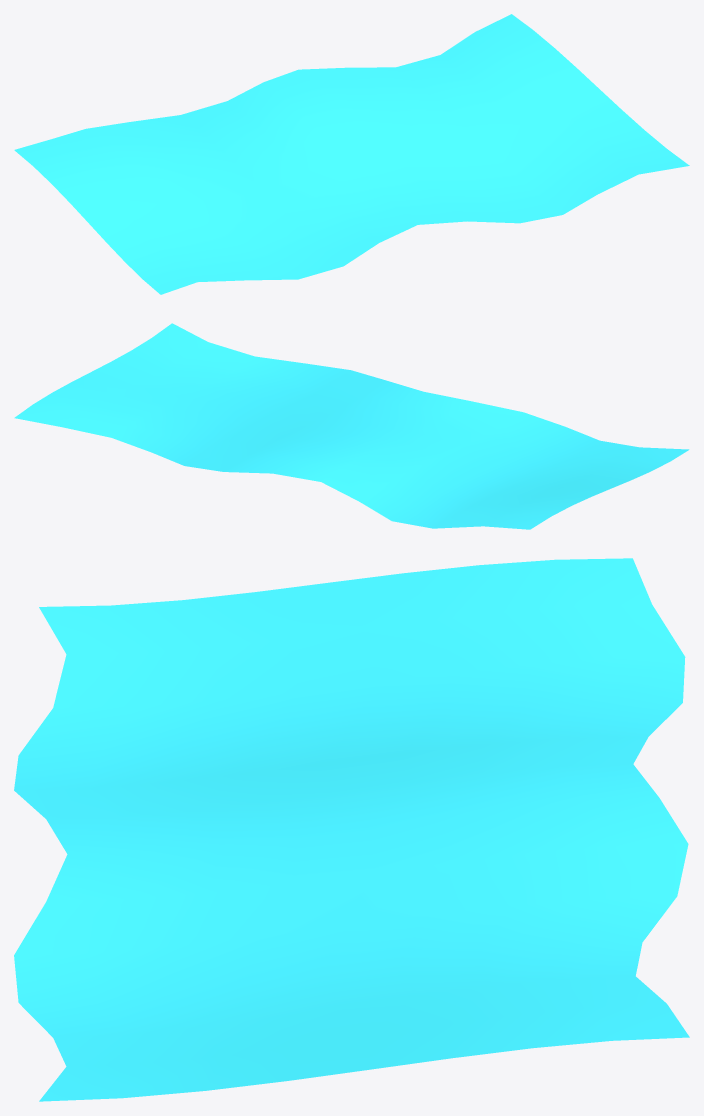
The model's file is SM_WF_UpperStream.fbx.
The picture shows the model from 3 angles, top to bottom: view 1: azimuth 30°, elevation 25°; view 2: azimuth 150°, elevation 25°; view 3: azimuth 270°, elevation 25°; orthographic projection. The views are drawn at different scales.
Visible parts, largest first — view 1: SM_WF_UpperStream; view 2: SM_WF_UpperStream; view 3: SM_WF_UpperStream.
Part boxes in pixels (<box>): SM_WF_UpperStream: <box>14,14,689,294</box>; SM_WF_UpperStream: <box>14,323,689,529</box>; SM_WF_UpperStream: <box>14,558,689,1101</box>.
Size of the model in its own units: 94 by 54.29 by 7.2.
